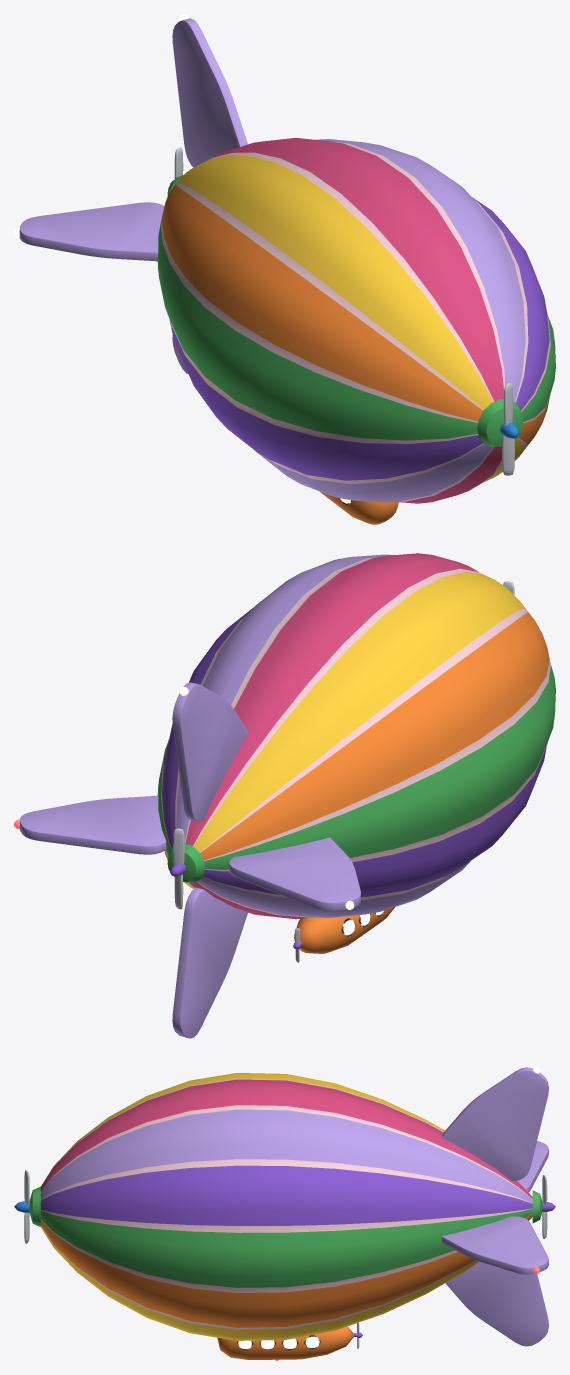
The model's file is dirigivel_arco_iris.glb.
3 renders of one model, top to bottom at view 1: azimuth 30°, elevation 25°; view 2: azimuth 150°, elevation 25°; view 3: azimuth 270°, elevation 25°, orthographic. The views are drawn at different scales.
Visible parts, largest first — view 1: dirigivel_arco_iris, helice_nariz; view 2: dirigivel_arco_iris, helice_cauda; view 3: dirigivel_arco_iris, helice_nariz, helice_cauda.
Part boxes in pixels (box(x1,y1,x2,y2)): dirigivel_arco_iris: box(14, 14, 555, 524); helice_nariz: box(500, 383, 518, 475); dirigivel_arco_iris: box(14, 553, 555, 1038); helice_cauda: box(170, 828, 185, 909); dirigivel_arco_iris: box(29, 1067, 548, 1359); helice_nariz: box(14, 1170, 29, 1243); helice_cauda: box(542, 1175, 555, 1238).
Bounding box in the file's own units: 16.49 × 17.34 × 29.05.
5 materials, 1 textured.
